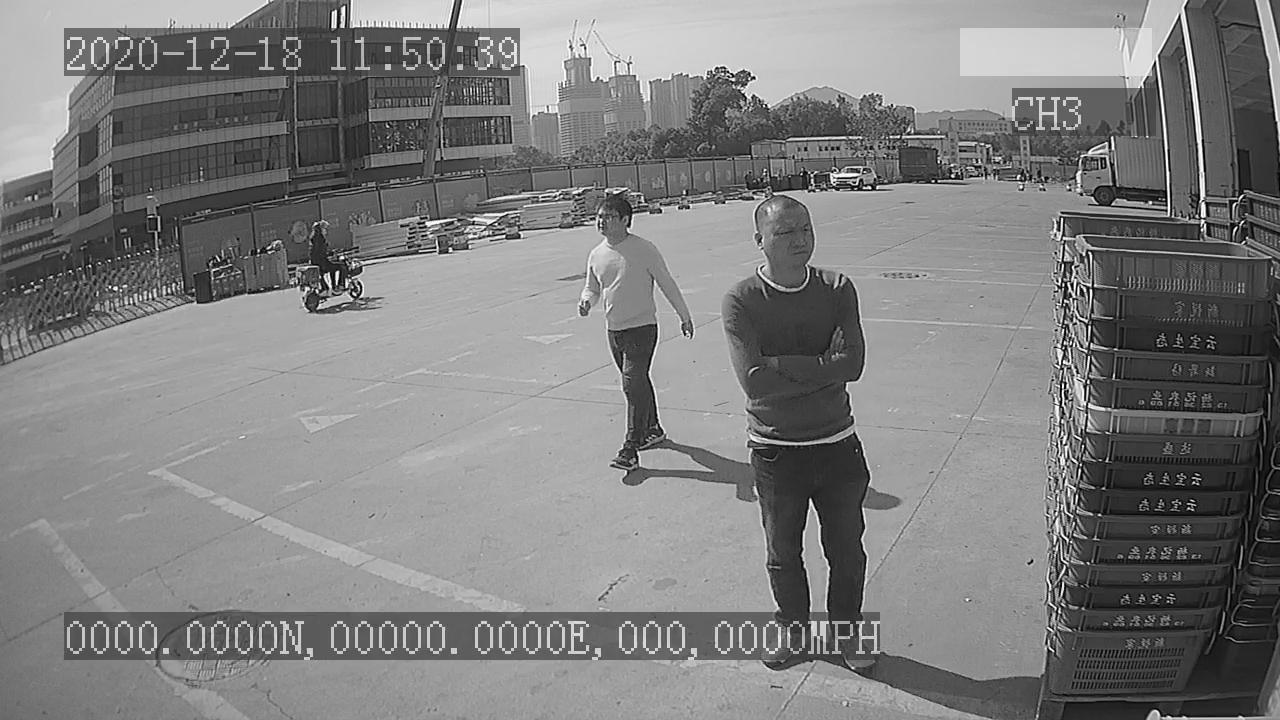person: (570, 190, 699, 485)
